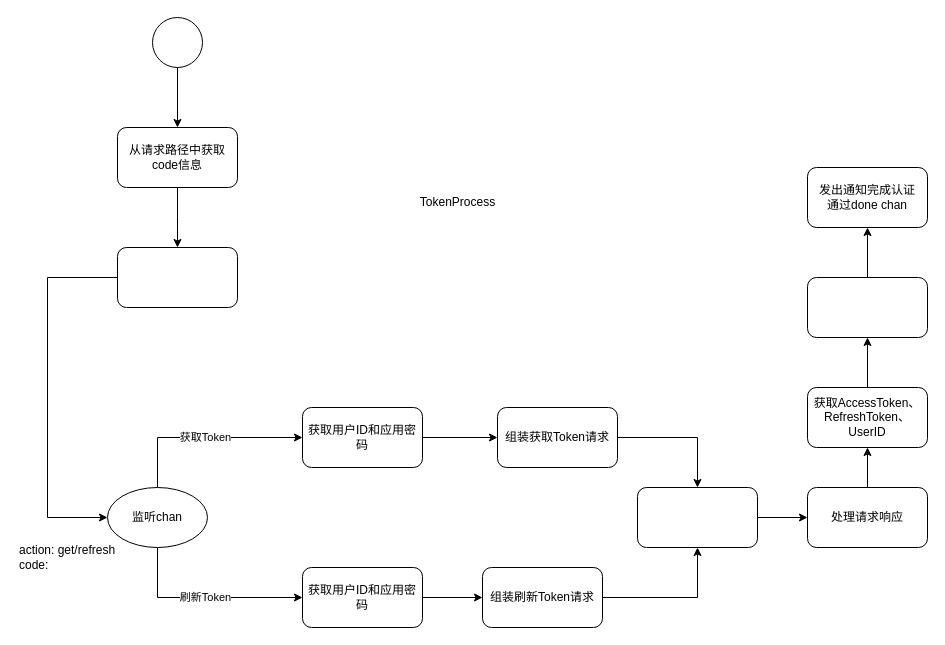
Some shapes in this 945 by 645 pixel diagram are drawn without their labels. Here are the shapes that lost their labels. From the top down, the centre of each, then its label:
[177,42]: 认证回调
[177,277]: 发送请求到监听chan
[867,307]: 记录到数据库中
[697,517]: 发送请求
